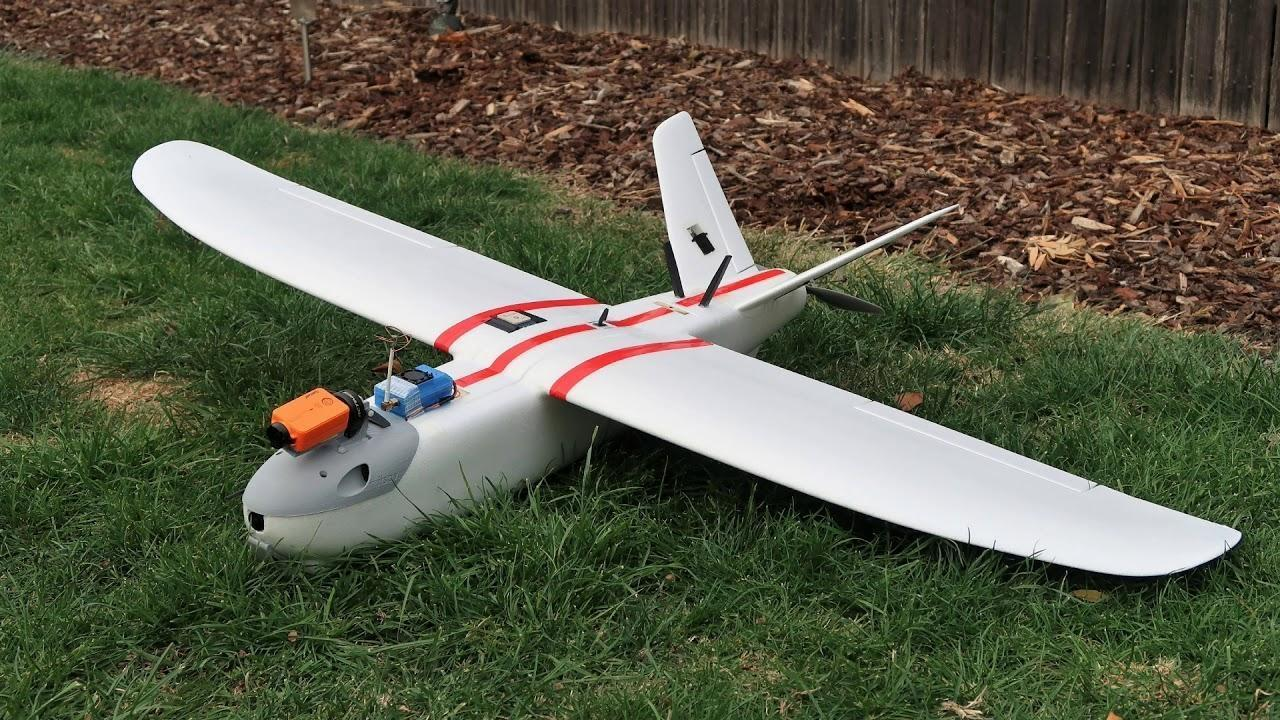Airplane: (116, 90, 1249, 614)
